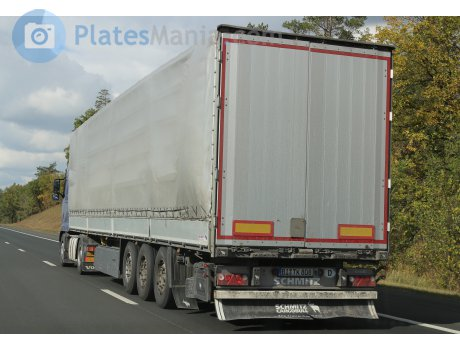License Plates: (279, 302, 313, 314)
